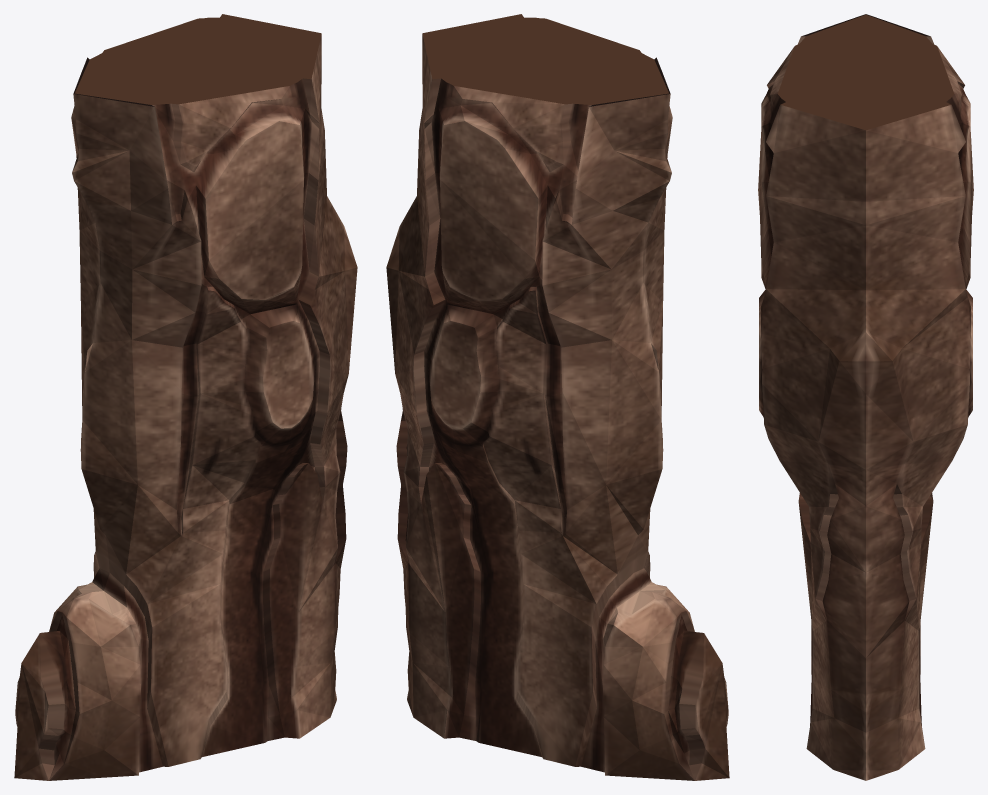
File: berg-langf (1).fbx
3 renders of one model, left to right at view 1: azimuth 30°, elevation 25°; view 2: azimuth 150°, elevation 25°; view 3: azimuth 270°, elevation 25°, orthographic. The views are drawn at different scales.
Parts seen in each view (by area): view 1: Plane.006; view 2: Plane.006; view 3: Plane.006.
Part boxes in pixels (bbox=[...]): Plane.006: bbox=[14, 14, 357, 780]; Plane.006: bbox=[386, 14, 729, 780]; Plane.006: bbox=[758, 14, 973, 780].
Size of the model in its own units: 299 by 574 by 174.
